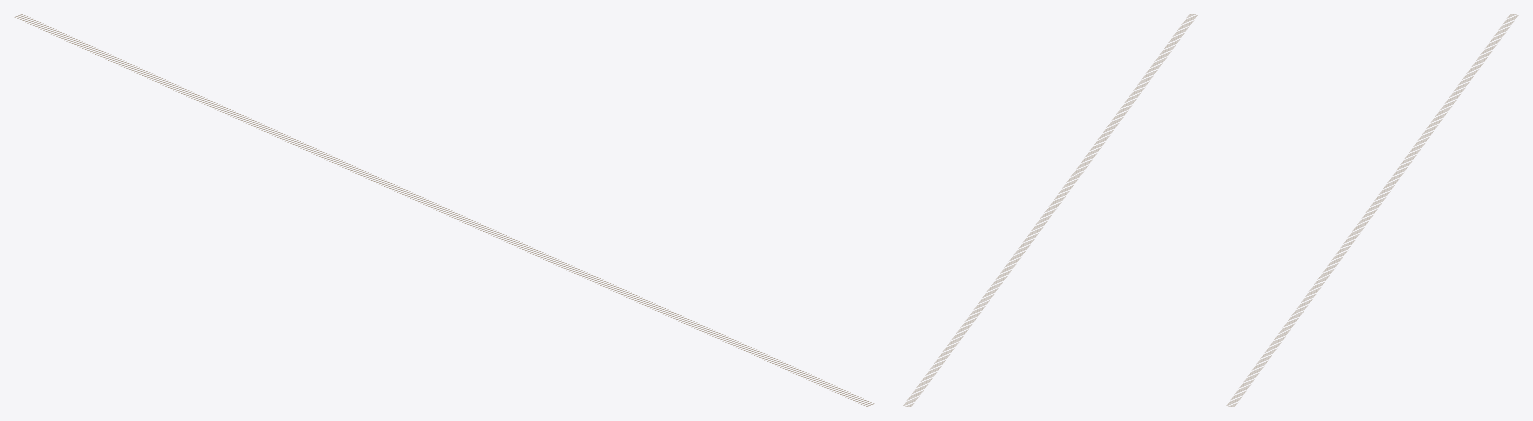
Rendered from c_1629_17816_rail_sleeper.glb.
3 views of the same model, side by side, from view 1: azimuth 30°, elevation 25°; view 2: azimuth 150°, elevation 25°; view 3: azimuth 330°, elevation 25° (orthographic). The views are drawn at different scales.
Visible parts, largest first — view 1: geometry_0; view 2: geometry_0; view 3: geometry_0.
Part boxes in pixels (x1,y1,x2,y2): geometry_0: (14, 14, 874, 406); geometry_0: (903, 14, 1197, 406); geometry_0: (1226, 14, 1518, 406).
Size of the model in its own units: 60.82 by 0.5369 by 256.
